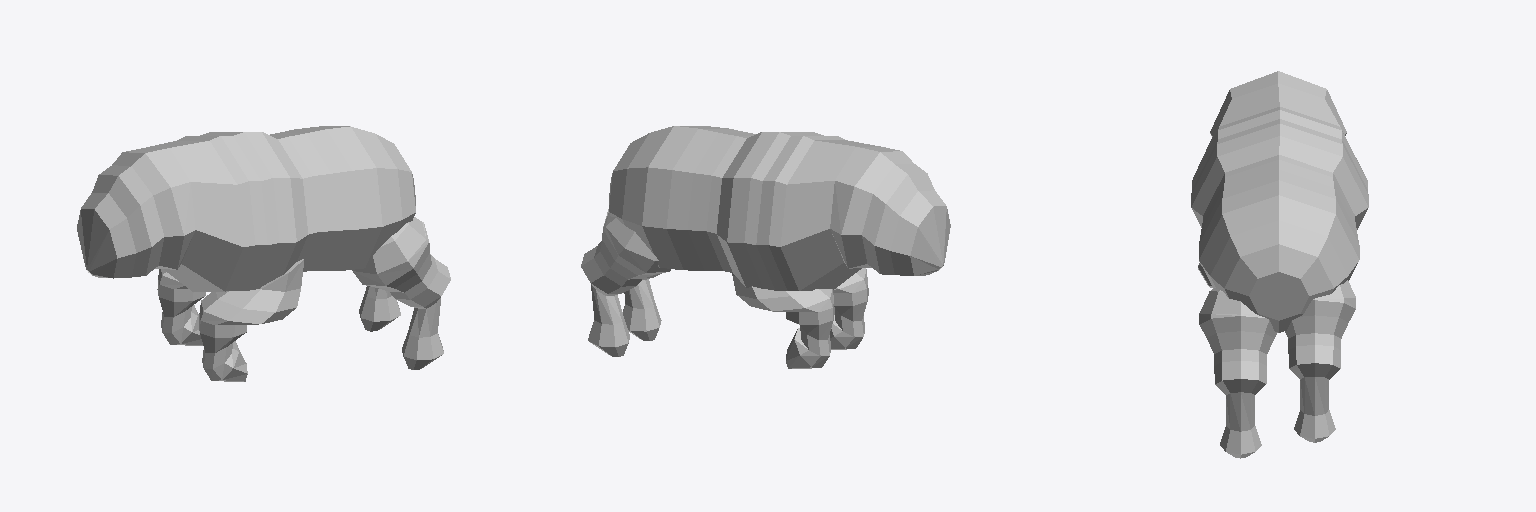
The model's file is baby.obj.
3 renders of one model, left to right at view 1: azimuth 30°, elevation 25°; view 2: azimuth 150°, elevation 25°; view 3: azimuth 270°, elevation 25°, orthographic.
Parts seen in each view (by area): view 1: mainBody_Cylinder, backLeftLeg.001_frontLeg.001, backLeftLeg_frontLeg; view 2: mainBody_Cylinder, backLeftLeg_frontLeg, backLeftLeg.001_frontLeg.001; view 3: mainBody_Cylinder, backLeftLeg.001_frontLeg.001, backLeftLeg_frontLeg.
Part boxes in pixels (x1,y1,x2,y2): mainBody_Cylinder: (77,126,415,291); backLeftLeg.001_frontLeg.001: (199,217,450,381); backLeftLeg_frontLeg: (157,269,400,345); mainBody_Cylinder: (609,126,950,290); backLeftLeg_frontLeg: (581,209,834,368); backLeftLeg.001_frontLeg.001: (623,268,868,349); mainBody_Cylinder: (1191,71,1368,332); backLeftLeg.001_frontLeg.001: (1198,263,1277,458); backLeftLeg_frontLeg: (1285,280,1355,442).
Size of the model in its own units: 4.06 by 2.95 by 1.82.